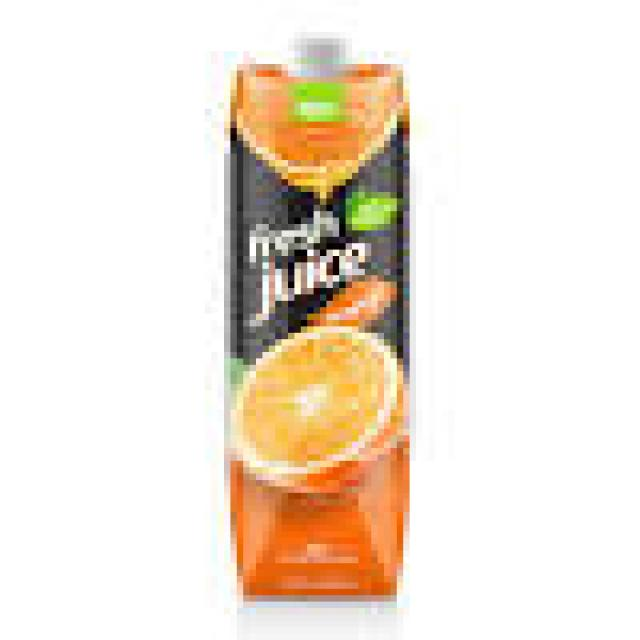non_white_jug: (195, 29, 426, 611)
